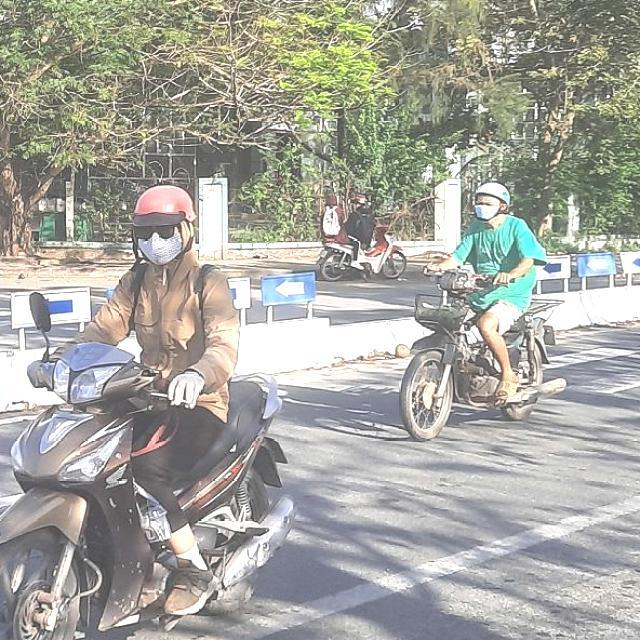Helmet: (124, 182, 202, 268), (468, 178, 511, 224)
